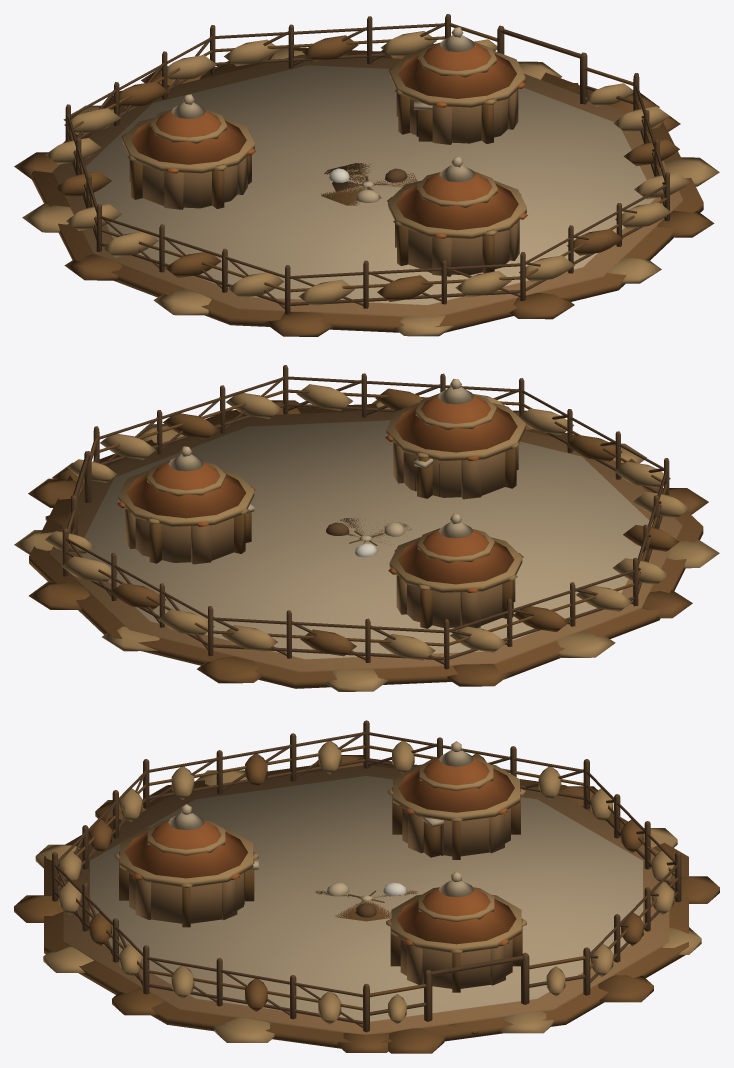
The model's file is maasai_boma.glb.
3 views of the same model, one above another, from view 1: azimuth 30°, elevation 25°; view 2: azimuth 150°, elevation 25°; view 3: azimuth 270°, elevation 25° (orthographic).
Parts seen in each view (by area): view 1: maasai_boma; view 2: maasai_boma; view 3: maasai_boma.
Boxes of the visible parts, x1,y1,x2,y2 form: maasai_boma: [14, 14, 719, 336]; maasai_boma: [14, 365, 719, 691]; maasai_boma: [14, 720, 719, 1053].
Size of the model in its own units: 20.41 by 3.32 by 20.4.
